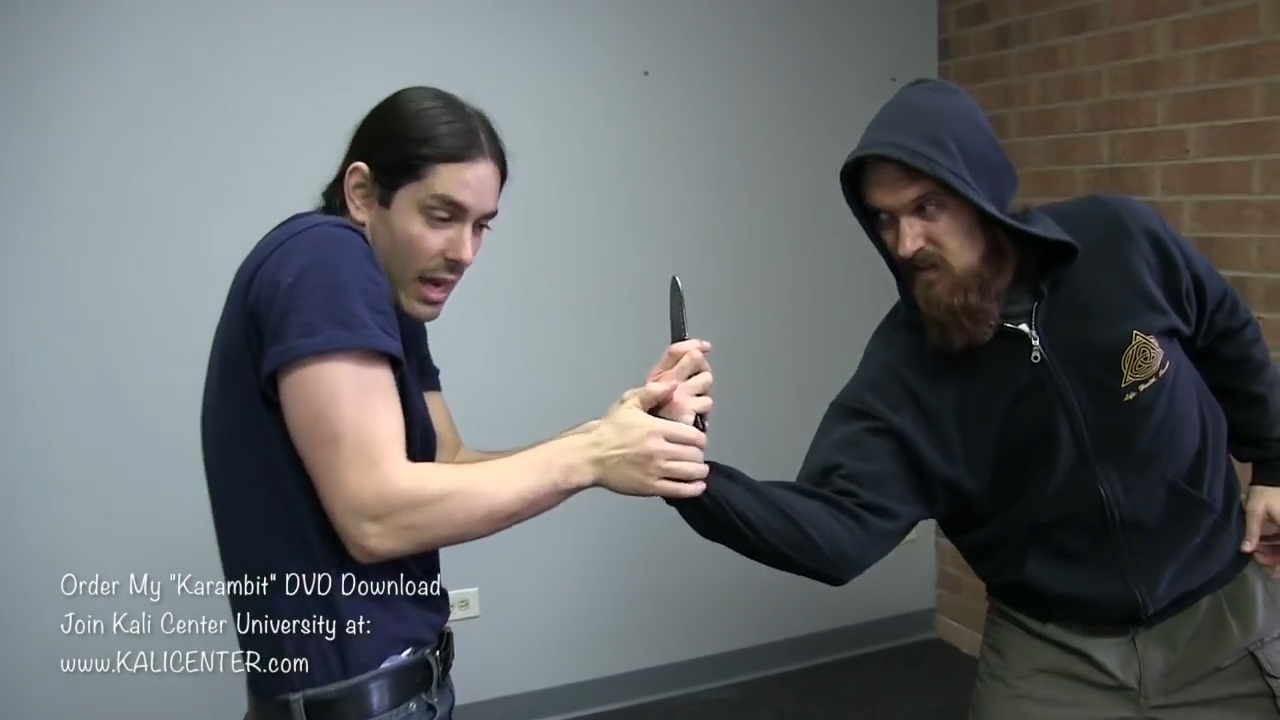knife: (644, 271, 722, 408)
